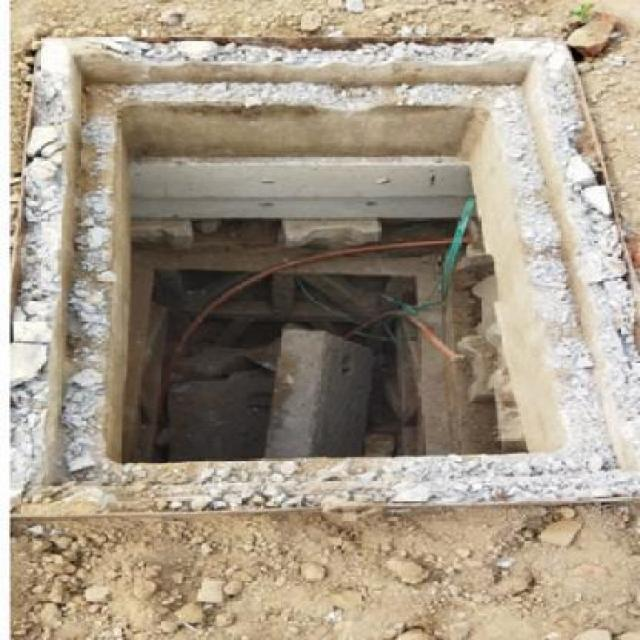Open Manhole: (12, 32, 638, 517)
